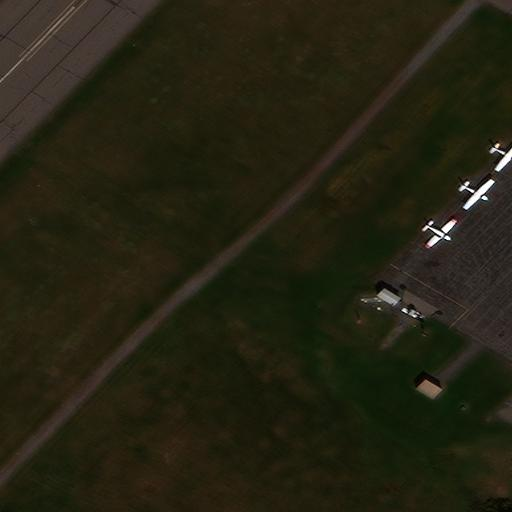Small Civil Transport: (460, 181, 495, 210), (425, 221, 458, 248), (491, 144, 511, 172)
